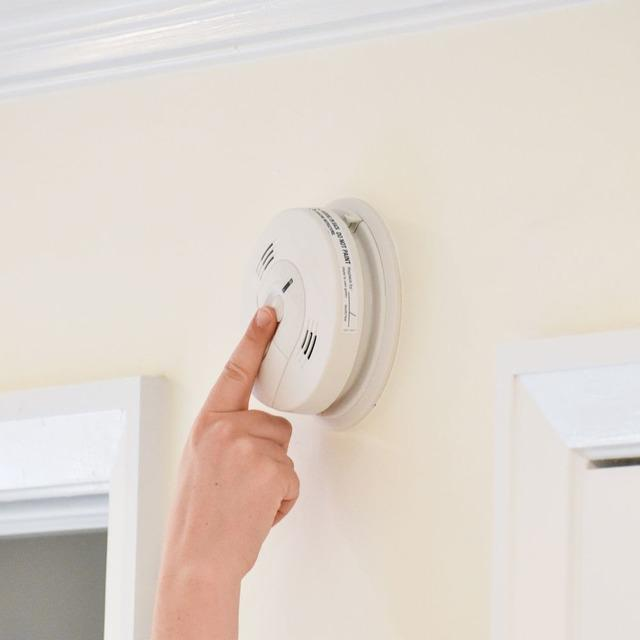Smoke-Detector: (247, 190, 407, 426)
